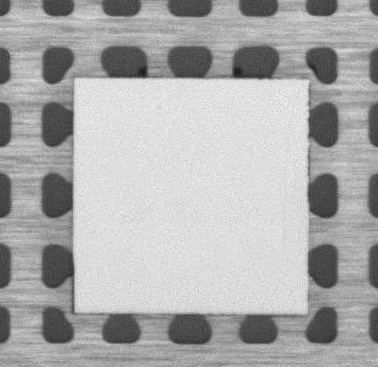DIE_CRACK: (280, 85, 303, 253)
